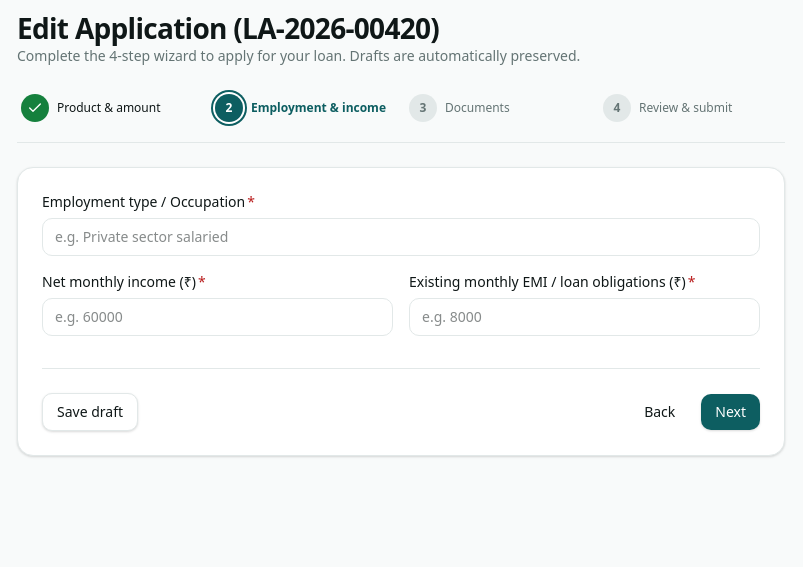
it: ApplicationWizard › shows a failed draft save without advancing or losing the entered fields
This screenshot has width=803, height=567.
Type "Retail consultant" into the field labelled "Employment type / Occupation*". click: [401, 237]
box: 42,218 -> 760,256
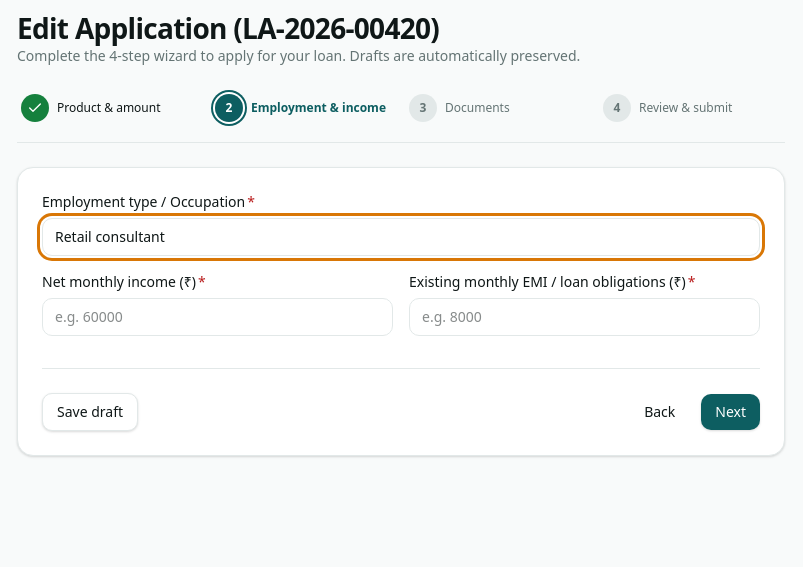
Click the button "Save draft". click: [90, 412]
box: 42,393 -> 138,431
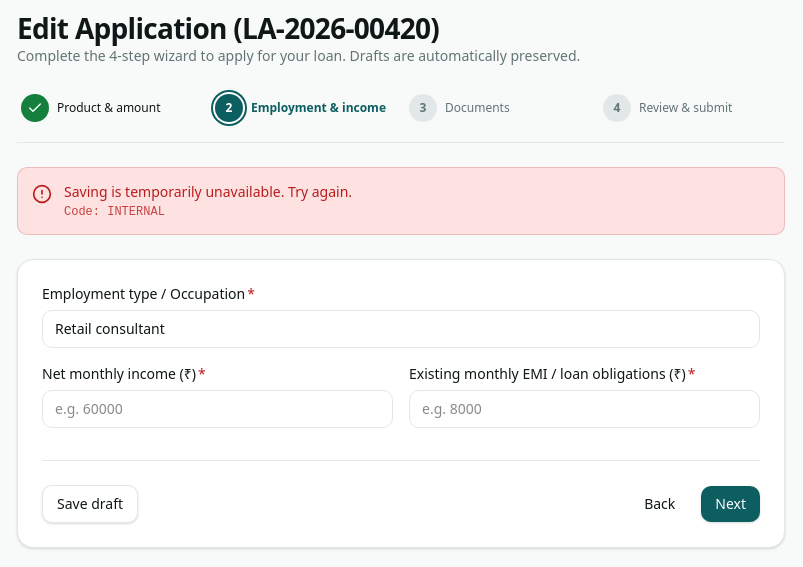
Expected: the text "Saving is temporarily unavailable. Try again." is shown, 64,182 -> 352,201
